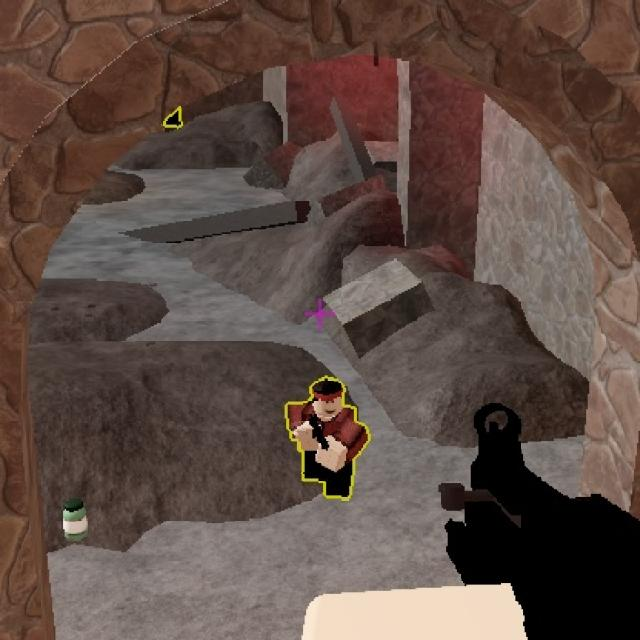player: (293, 375, 346, 492)
